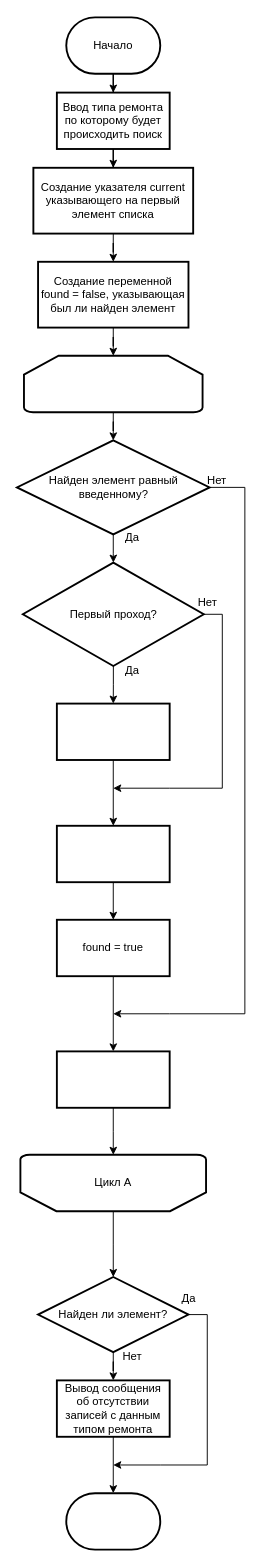
The diagram is 269 pixels wide and 1566 high, and some of its shapes have lost their labels. Here are the shapes that lost their labels. From the top down, the centre of each, then its label:
(x=113, y=383): Цикл А: пока указатель на начало списка не дойдет до Null
(x=112, y=731): Вывод шапки таблицы
(x=112, y=853): Вывод данных клиента
(x=112, y=1079): Переход к следующему элементу списка
(x=113, y=1521): Конец
